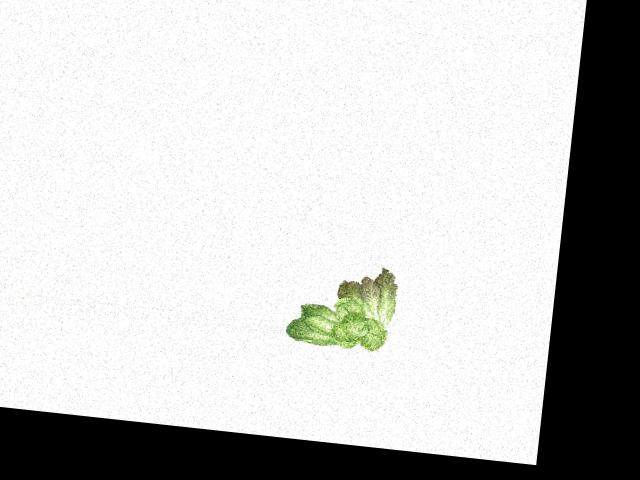lettuce: (283, 252, 402, 359)
